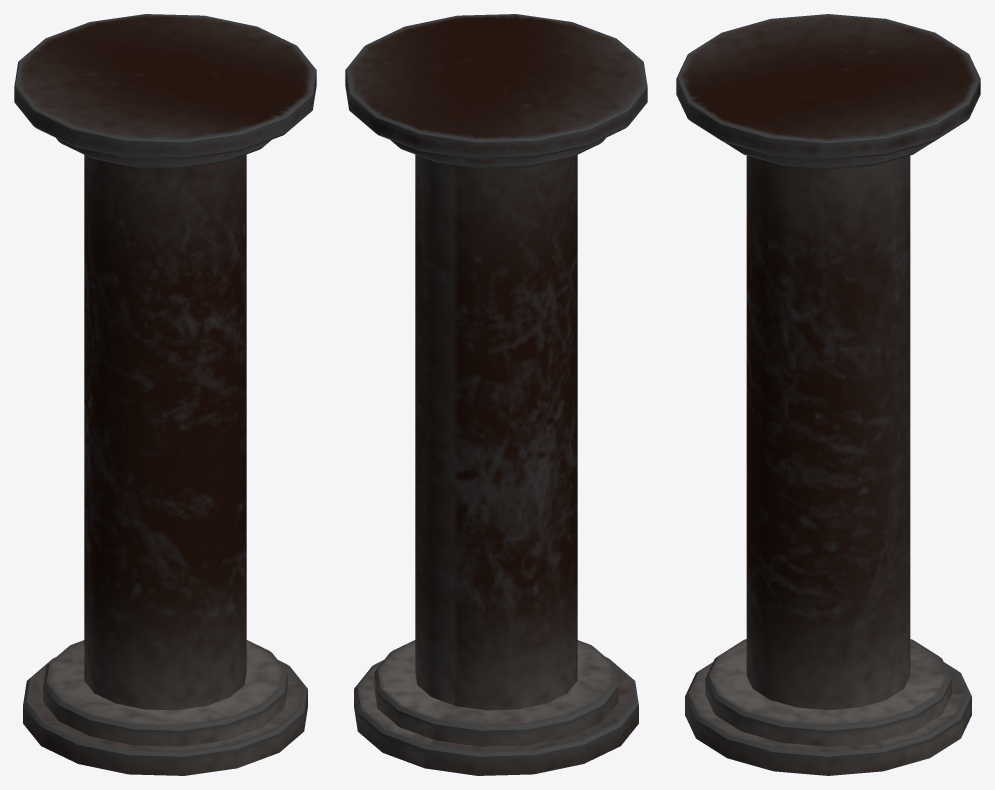
Rendered from SM_Pedestal_001.fbx.
The picture shows the model from 3 angles, left to right: view 1: azimuth 30°, elevation 25°; view 2: azimuth 150°, elevation 25°; view 3: azimuth 270°, elevation 25°; orthographic projection.
Visible parts, largest first — view 1: SM_Pedestal_001; view 2: SM_Pedestal_001; view 3: SM_Pedestal_001.
Part boxes in pixels (x1,y1,x2,y2): SM_Pedestal_001: [14, 14, 316, 775]; SM_Pedestal_001: [345, 14, 647, 775]; SM_Pedestal_001: [676, 14, 980, 775].
Size of the model in its own units: 36.85 by 85.11 by 36.85.
